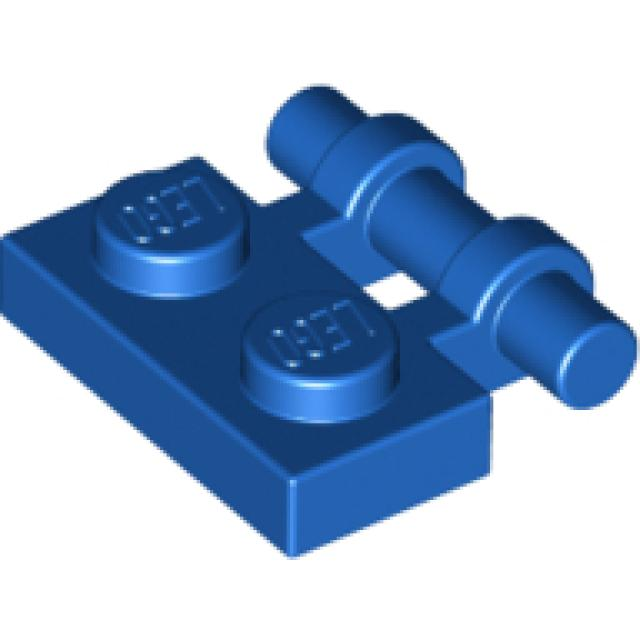Blue_Medium: (0, 83, 640, 560)
